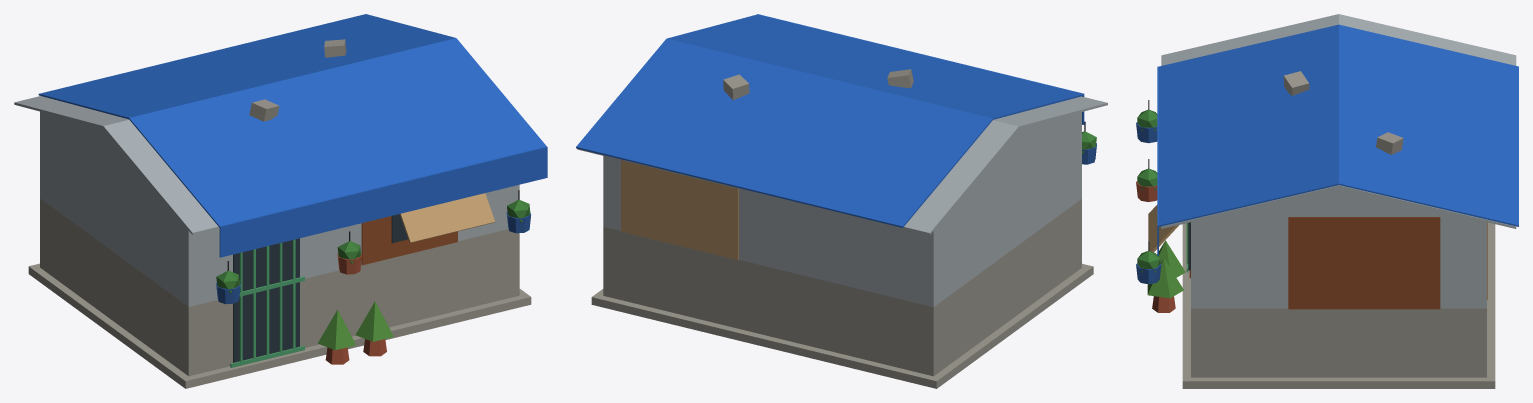
Rendered from BAY_I_TarpShack_Q.glb.
3 views of the same model, side by side, from view 1: azimuth 30°, elevation 25°; view 2: azimuth 150°, elevation 25°; view 3: azimuth 270°, elevation 25° (orthographic).
Parts seen in each view (by area): view 1: BAY_I_TarpShack_Q; view 2: BAY_I_TarpShack_Q; view 3: BAY_I_TarpShack_Q.
Part boxes in pixels (<box>): BAY_I_TarpShack_Q: <box>14,14,547,388</box>; BAY_I_TarpShack_Q: <box>576,14,1107,388</box>; BAY_I_TarpShack_Q: <box>1136,14,1518,388</box>.
Size of the model in its own units: 4.8 by 2.76 by 4.53.
Materials: 1 (1 with a texture image).
